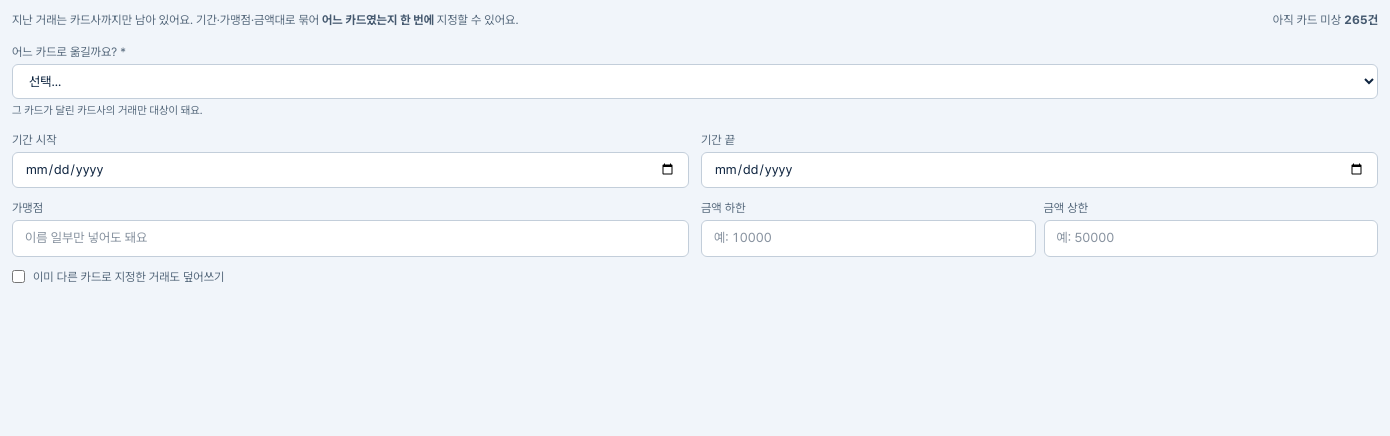
Test case: C. 프리뷰 — 실행 전에 건수가 보인다 › C-5. 덮어쓰는 건수가 있으면 실행 전에 알린다
Select "하나 A · 하나카드" in the dropdown labelled "어느 카드로 옮길까요? *" at coordinates (695, 82), box [12, 64, 1378, 99]
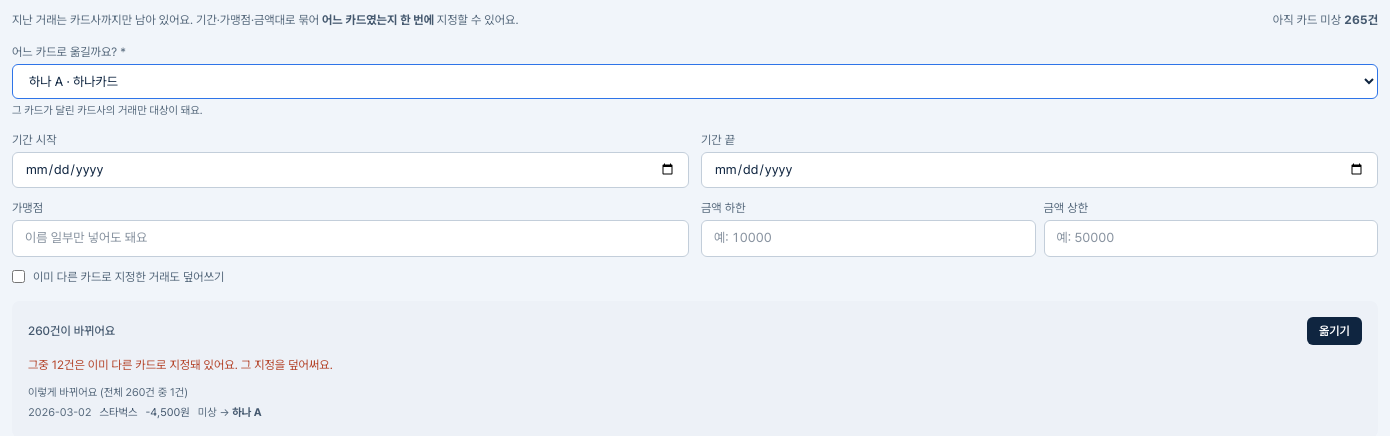
expect the text "그중 12건은 이미 다른 카드로 지정돼 있어요. 그 지정을 덮어써요." is shown: met, box [28, 358, 333, 372]
